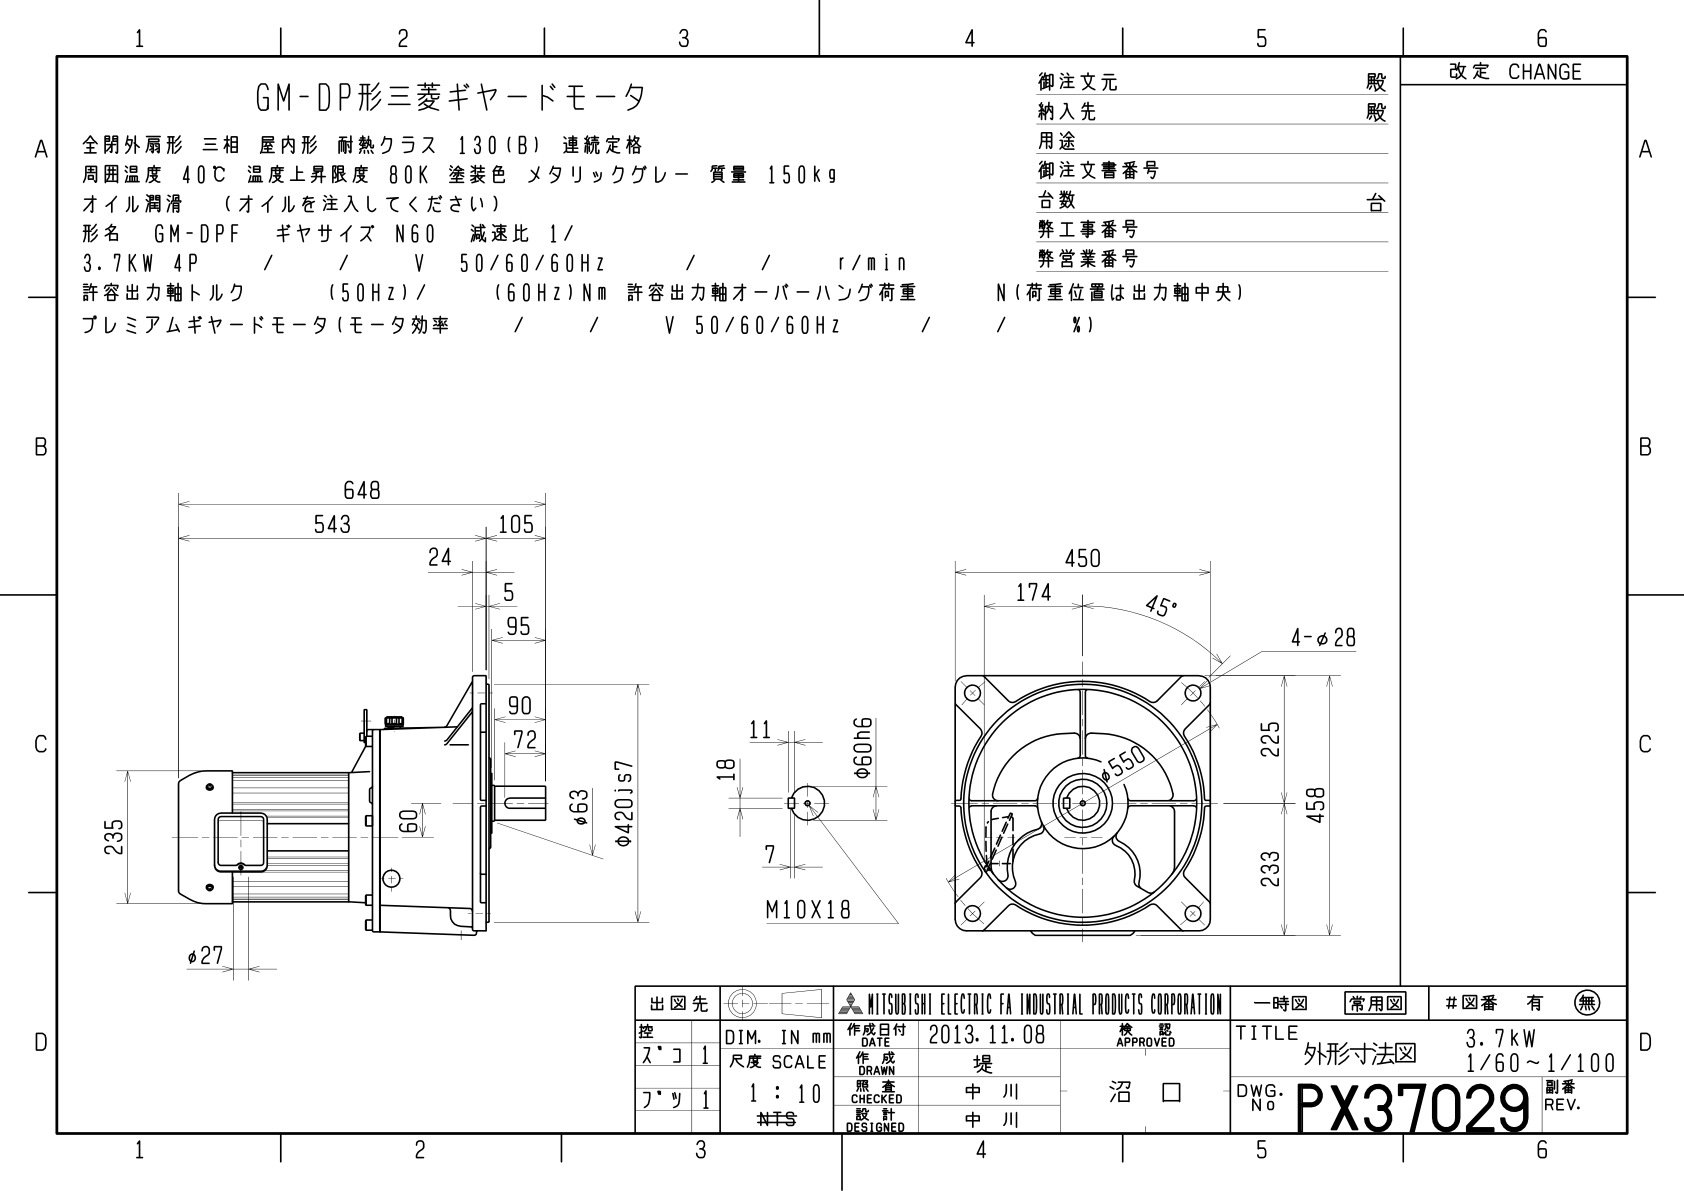GM_DP_屋内_三相_フランジ: (73, 402, 1381, 971)
